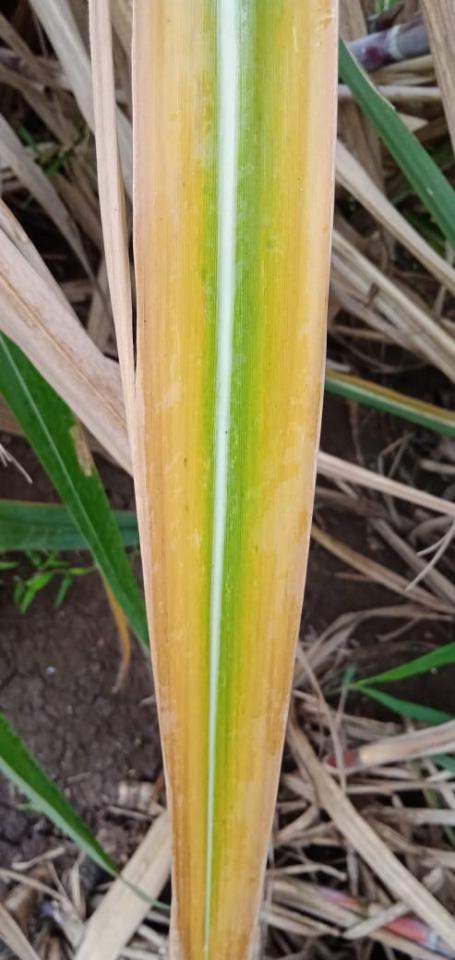Yellow: (209, 0, 311, 959), (165, 0, 218, 959)
